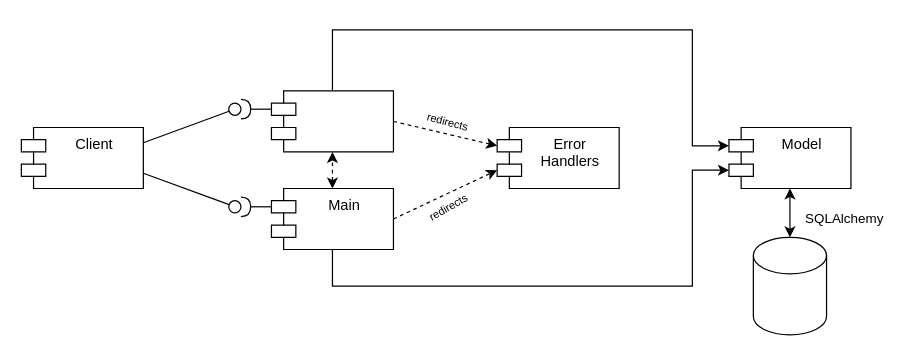
Some shapes in this 921 by 356 pixel diagram are drawn without their labels. The shapes that lost their labels are listed below. From the top down, each one's centre as x and y in pixels, then its label:
point (331, 121): Auth
point (789, 285): SQLite3 DB
